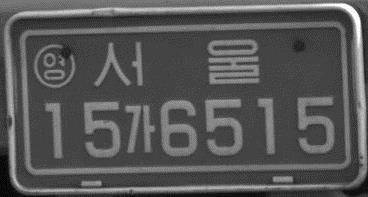1: (39, 99, 69, 162), (254, 95, 280, 157)
5: (201, 96, 245, 157), (81, 98, 122, 160), (295, 94, 336, 154)
6: (158, 96, 198, 160)
가: (123, 103, 156, 156)
서울_D: (90, 36, 262, 90)
영: (33, 42, 77, 91)
